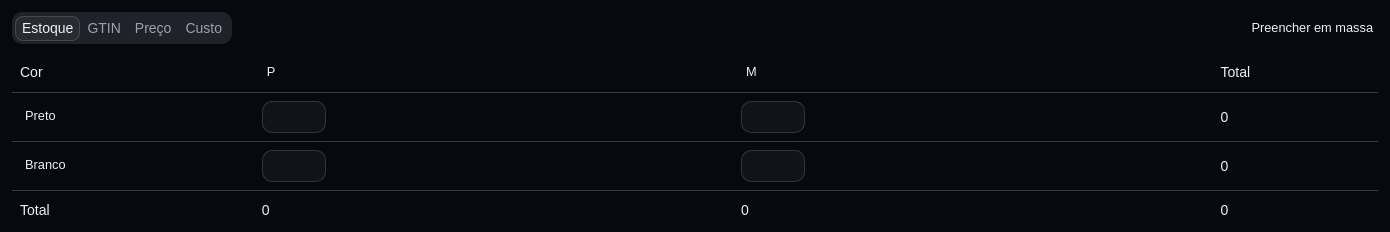
Test: MatrizGrade — herança na célula › célula sem override mostra o valor herdado do cabeçalho
Click the button "Preço": coordinates (153, 28) [128,16,178,40]
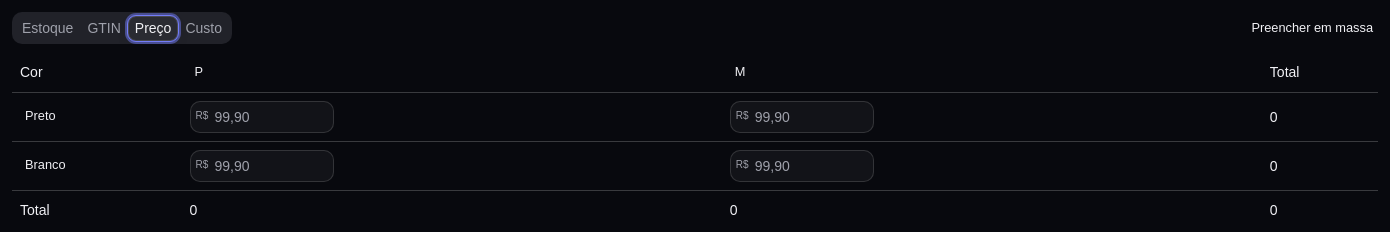
Expected: the field named "Preço mínimo (líquido) de Preto · P" holds "99,90", [190,100,334,132]
